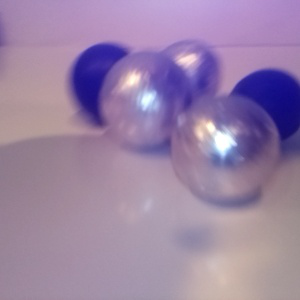alive_ball: (170, 93, 282, 205), (100, 48, 193, 151), (151, 39, 220, 110)
dead_ball: (230, 67, 300, 143), (71, 42, 137, 117)
